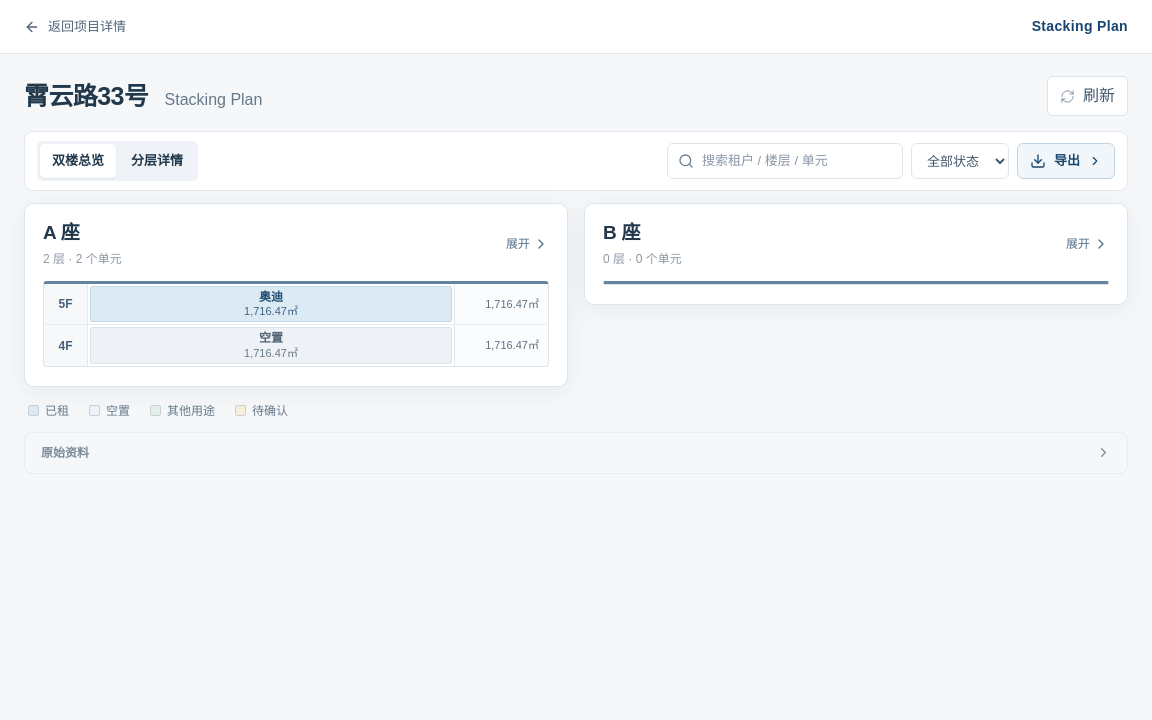
it: Stacking Plan actual workspace focus continuity › opens a dimmed unit without hiding its floor behind the old search
In the search field named "搜索租户、楼层或单元": [797, 161] box [702,151,892,171], type "奥迪"
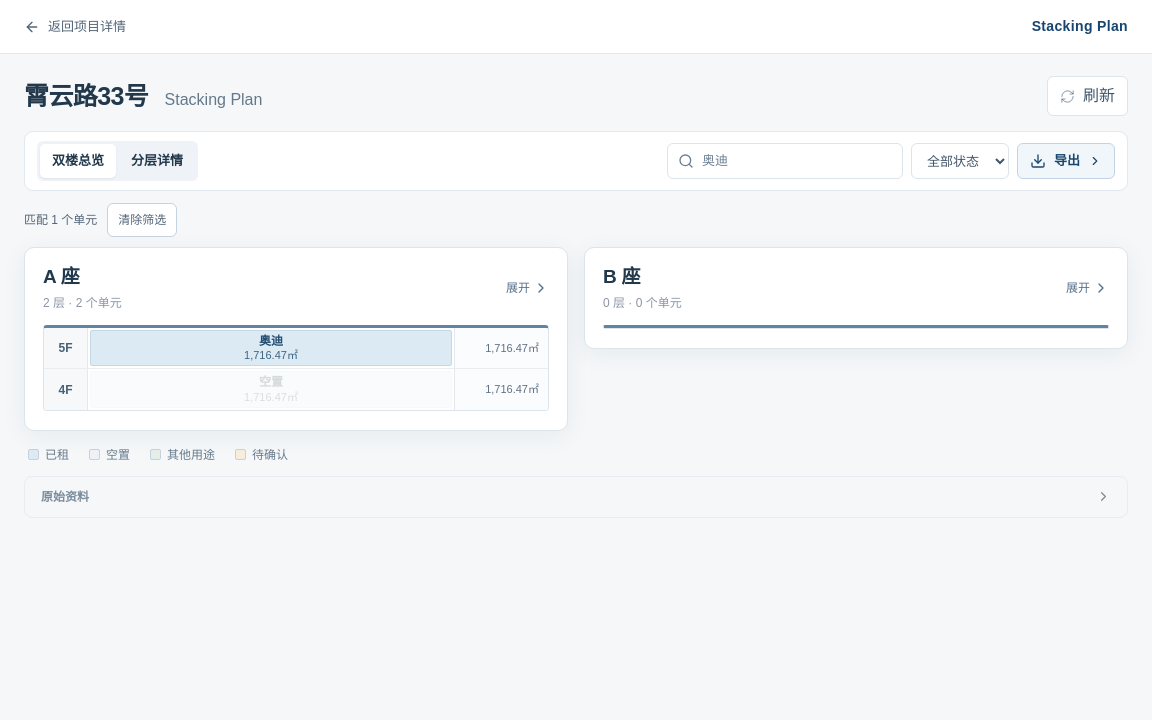
Click the button with aria-label "A 座 4层 空置": [271, 390] box [90,371,452,408]
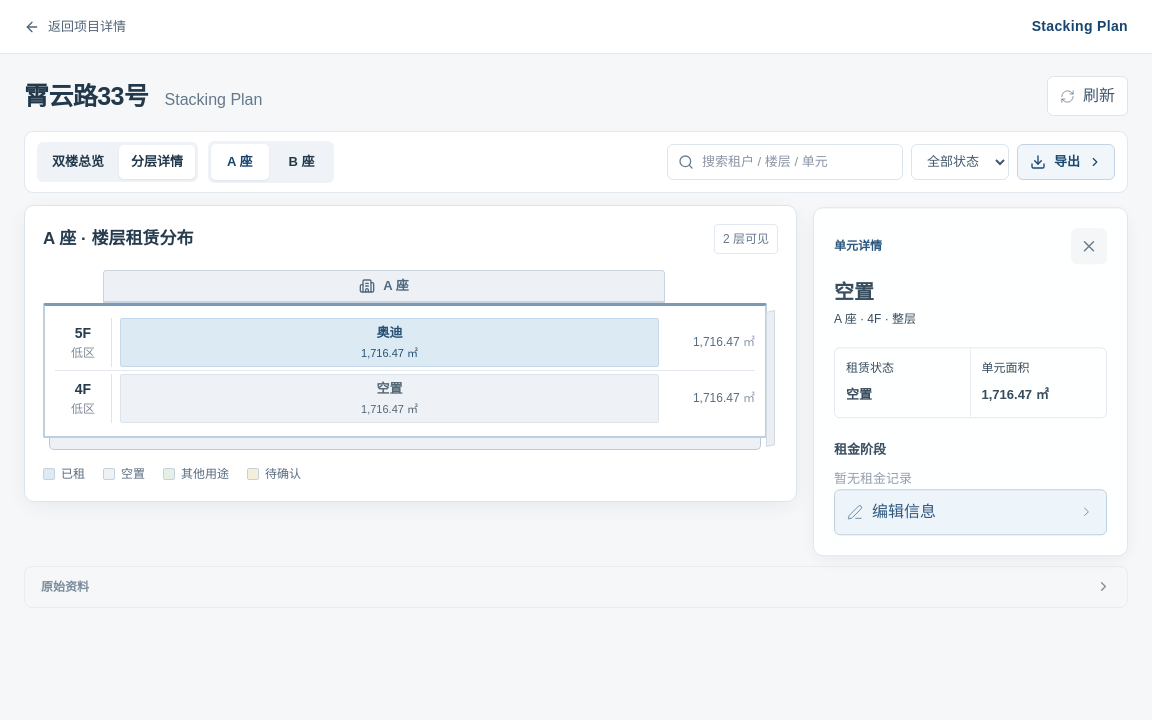
Expected: the search field named "搜索租户、楼层或单元" is empty, [702,152,892,172]
Expected: the element named "租赁单元详情" shows "4F", [867,310,881,324]
